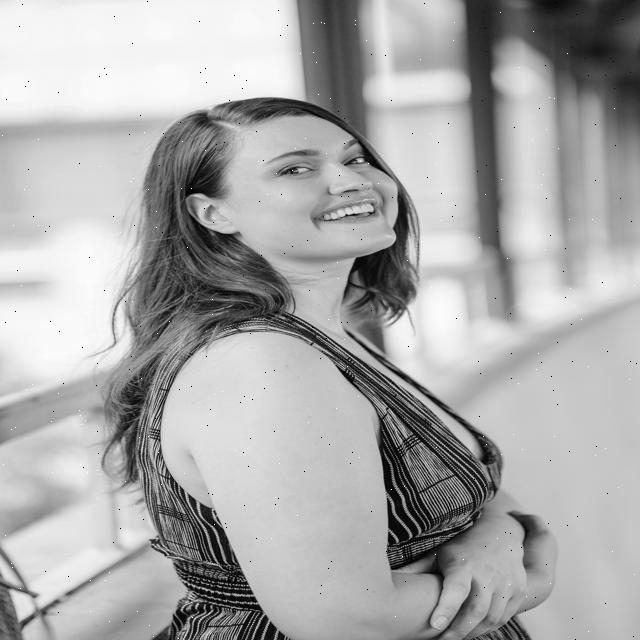Happiness: (228, 114, 402, 262)
